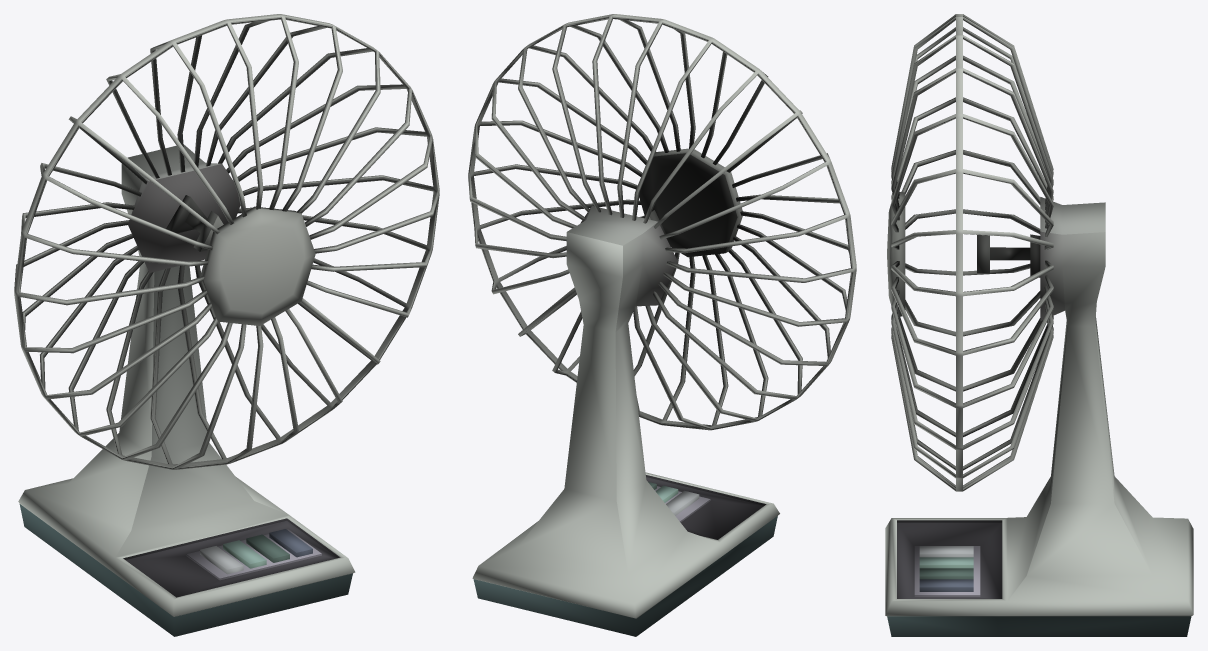
3 renders of one model, left to right at view 1: azimuth 30°, elevation 25°; view 2: azimuth 150°, elevation 25°; view 3: azimuth 270°, elevation 25°, orthographic. The views are drawn at different scales.
Visible parts, largest first — view 1: base.008; view 2: base.008; view 3: base.008.
Part boxes in pixels (box(x1,y1,x2,y2)): base.008: box(14, 14, 439, 636); base.008: box(468, 14, 856, 636); base.008: box(885, 14, 1193, 636).
Bounding box in the file's own units: 0.3879 × 0.5 × 0.2498.
